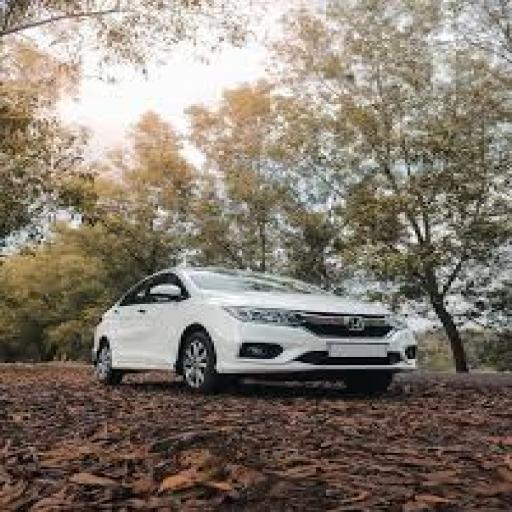License: (324, 339, 391, 359)
